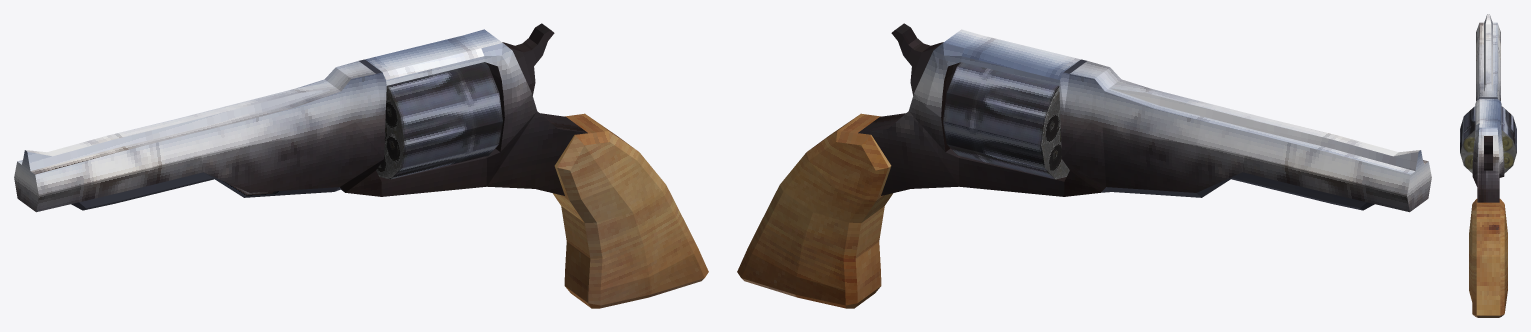
Rendered from revolver.glb.
The picture shows the model from 3 angles, left to right: view 1: azimuth 30°, elevation 25°; view 2: azimuth 150°, elevation 25°; view 3: azimuth 270°, elevation 25°; orthographic projection. The views are drawn at different scales.
Visible parts, largest first — view 1: Revolver, Cylinder; view 2: Revolver, Cylinder; view 3: Revolver, Cylinder.
Boxes of the visible parts, x1,y1,x2,y2 form: Revolver: (14,23,708,308); Cylinder: (376,62,502,179); Revolver: (737,23,1431,308); Cylinder: (943,62,1069,179); Revolver: (1469,14,1507,317); Cylinder: (1460,106,1516,173).
Bounding box in the file's own units: 24.38 × 9.95 × 3.58.
Materials: 2 (2 with a texture image).
